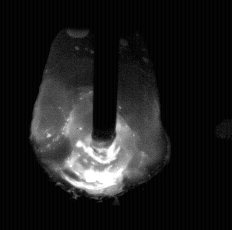arame: (94, 0, 117, 147)
poca: (30, 0, 163, 230)
